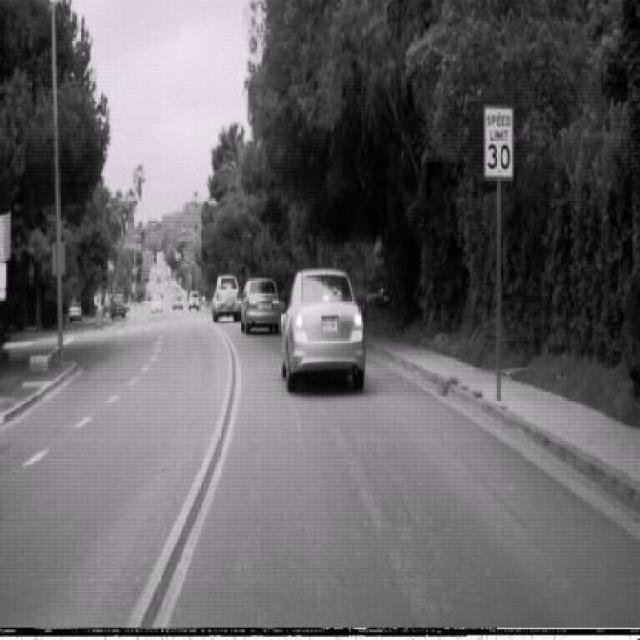speedLimit30: (483, 103, 514, 179)
